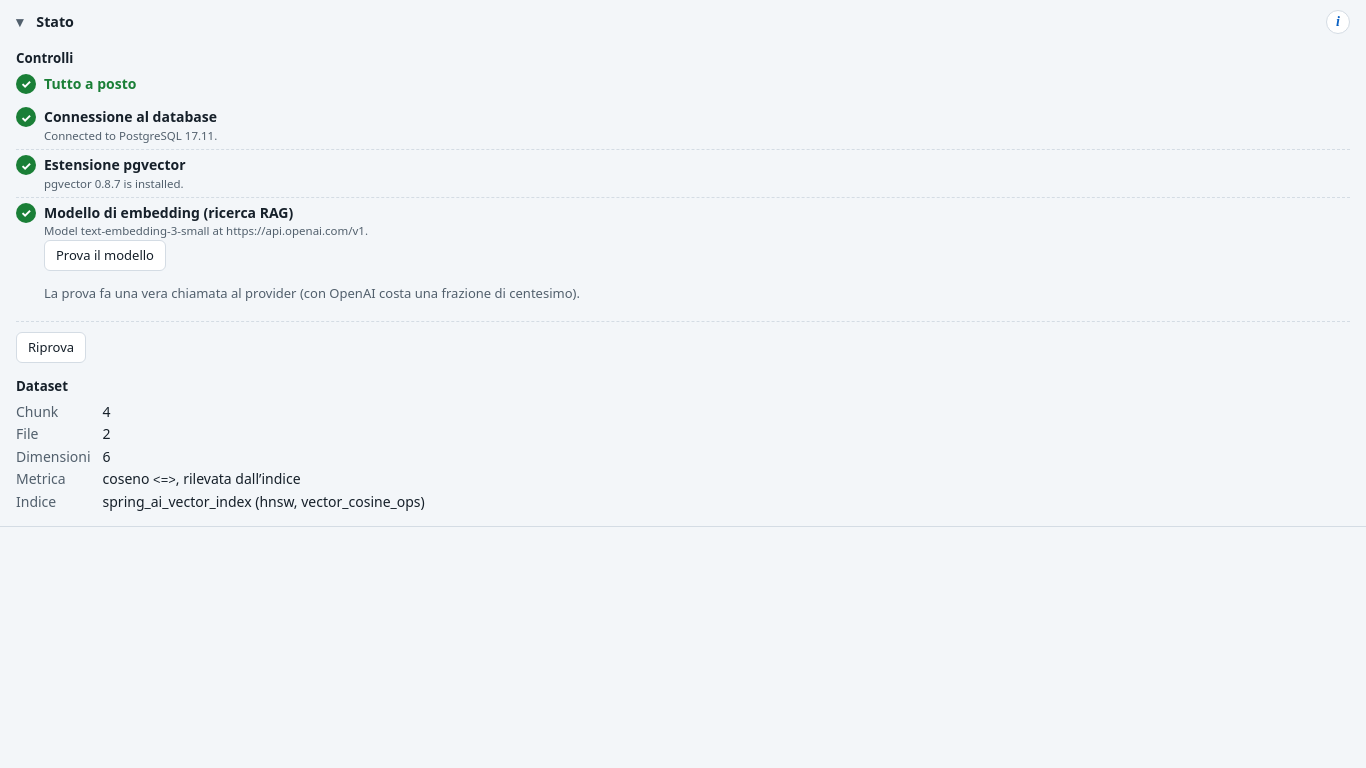
Test: embedding live test › shows provider errors
Click the button "Prova il modello". click: (105,256)
box: x1=44 y1=240 x2=166 y2=271
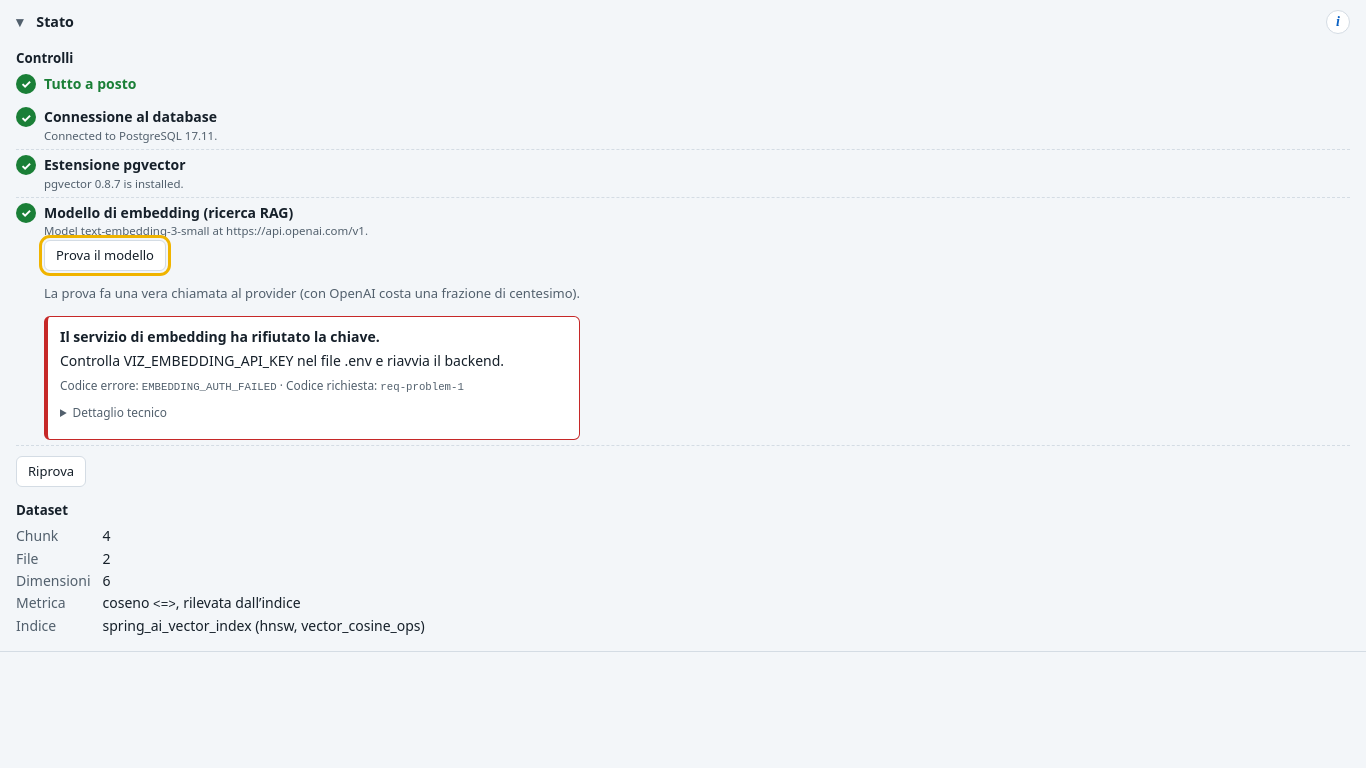
Result: the text "Il servizio di embedding ha rifiutato la chiave." is shown at x1=60 y1=327 x2=380 y2=346
